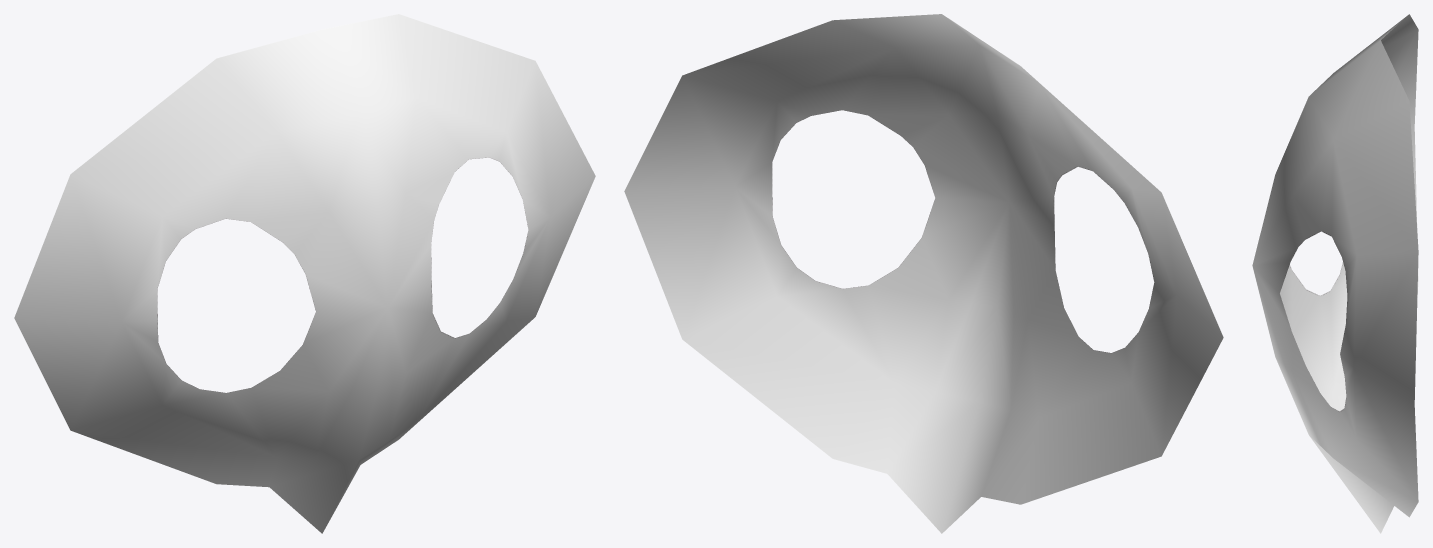
The model's file is face_P1_eye_close.fbx.
The picture shows the model from 3 angles, left to right: view 1: azimuth 30°, elevation 25°; view 2: azimuth 150°, elevation 25°; view 3: azimuth 270°, elevation 25°; orthographic projection. The views are drawn at different scales.
Parts seen in each view (by area): view 1: face5; view 2: face5; view 3: face5.
Boxes of the visible parts, <box> form: face5: <box>14,14,595,533</box>; face5: <box>624,14,1223,533</box>; face5: <box>1252,14,1418,533</box>.
Size of the model in its own units: 62.16 by 51.53 by 15.72.
1 material, 1 textured.
